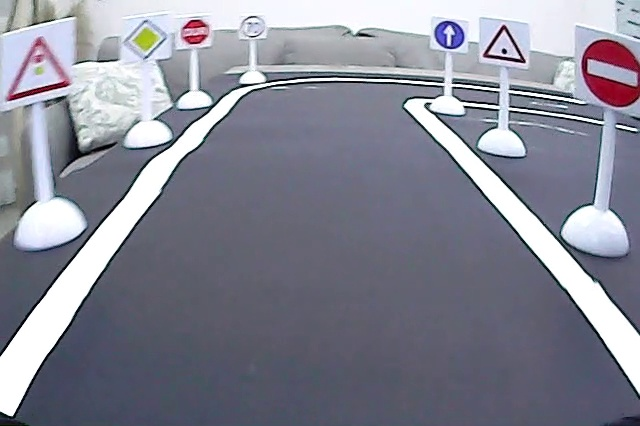do not enter: (578, 36, 640, 113)
green light: (481, 21, 529, 67)
red light: (3, 28, 74, 104)
speed limit 70: (239, 13, 268, 41)
stop sign: (180, 17, 212, 47)
